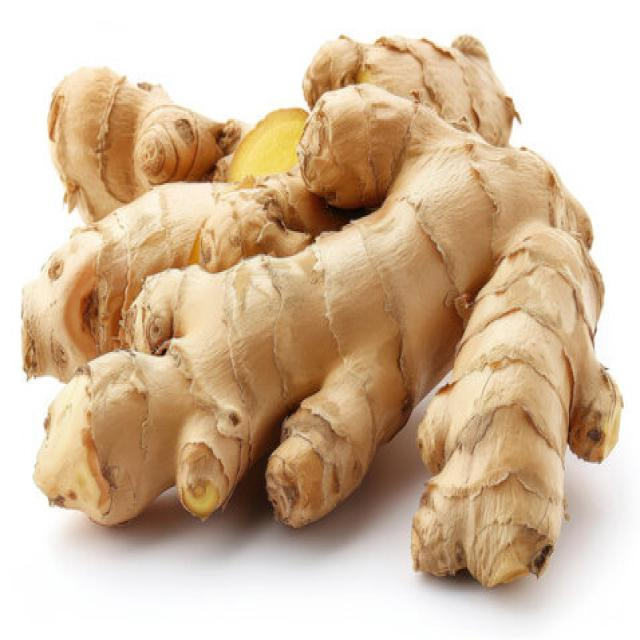Ginger: (18, 28, 623, 605)
